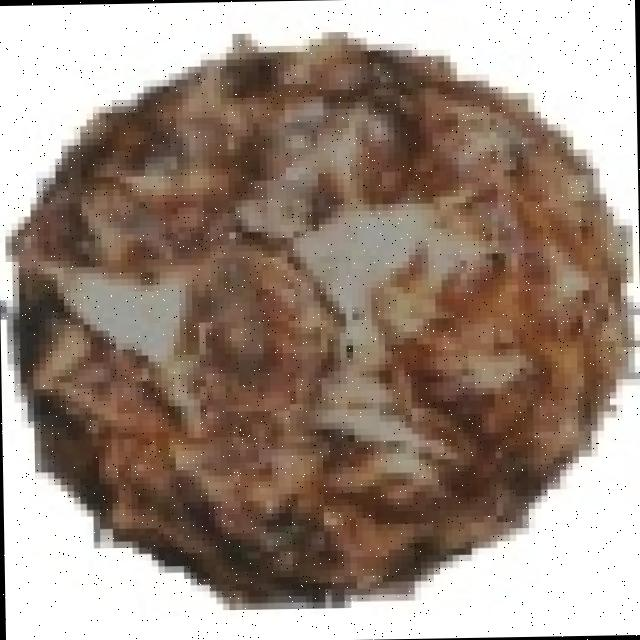pineapple: (24, 31, 632, 590)
